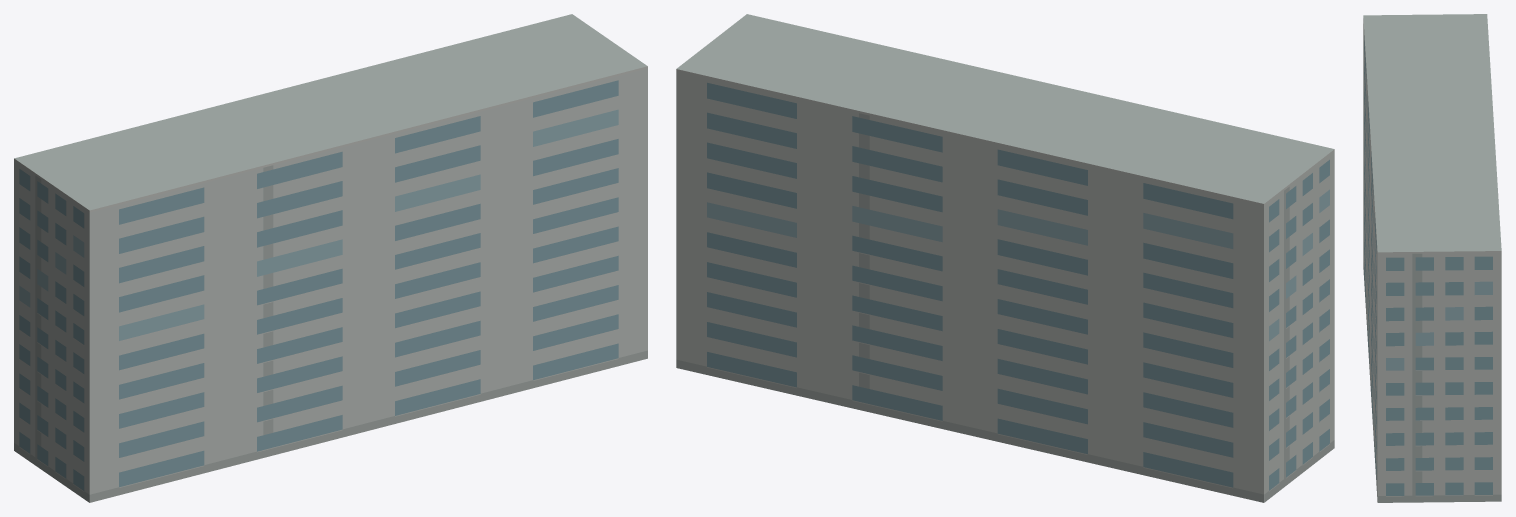
File: residential-2dfa6d73-8adf-47b0-9d54-2fecd8388550.glb
3 renders of one model, left to right at view 1: azimuth 30°, elevation 25°; view 2: azimuth 150°, elevation 25°; view 3: azimuth 270°, elevation 25°, orthographic. The views are drawn at different scales.
Visible parts, largest first — view 1: residential-2dfa6d73-8adf-47b0-9d54-2fecd8388550.tmp; view 2: residential-2dfa6d73-8adf-47b0-9d54-2fecd8388550.tmp; view 3: residential-2dfa6d73-8adf-47b0-9d54-2fecd8388550.tmp.
Part boxes in pixels (<box>): residential-2dfa6d73-8adf-47b0-9d54-2fecd8388550.tmp: <box>14,14,647,502</box>; residential-2dfa6d73-8adf-47b0-9d54-2fecd8388550.tmp: <box>676,14,1334,502</box>; residential-2dfa6d73-8adf-47b0-9d54-2fecd8388550.tmp: <box>1363,14,1501,502</box>.
Size of the model in its own units: 67.3 by 33 by 16.52.
